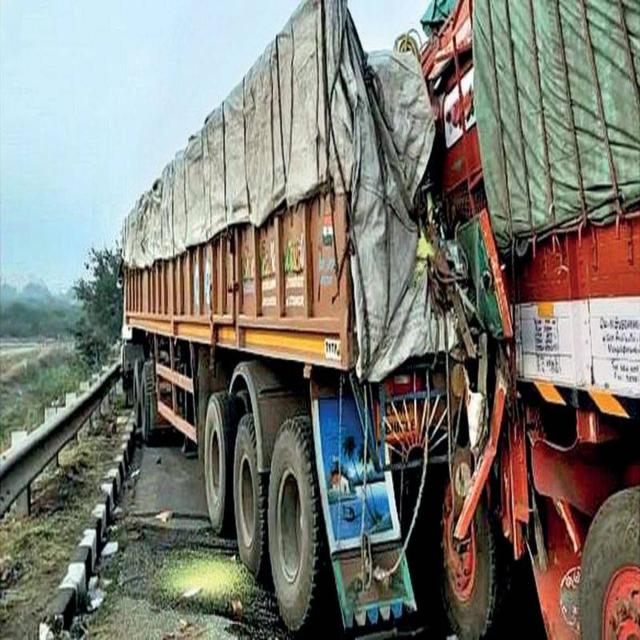accident: (420, 0, 640, 638)
truck: (122, 0, 459, 631)
